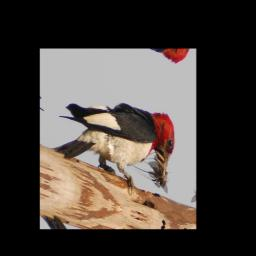Woodpecker: (49, 76, 179, 207)
